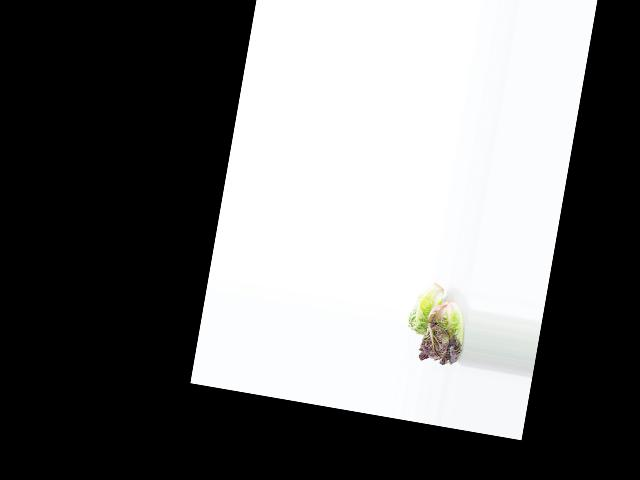lettuce: (405, 277, 447, 338)
